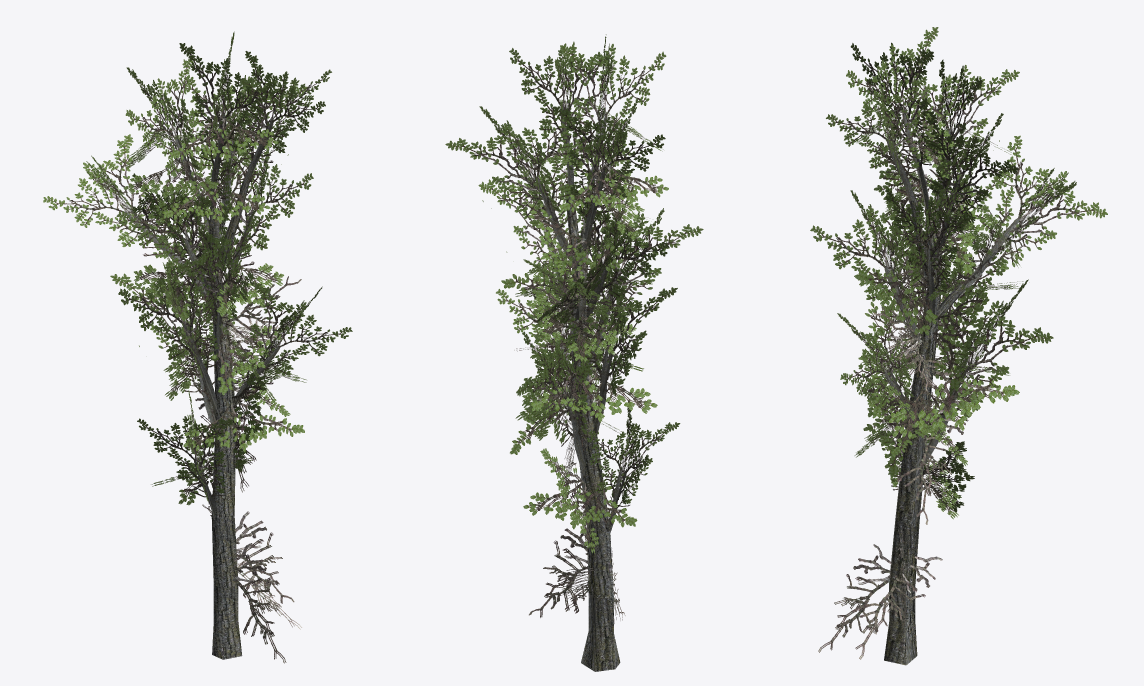
File: flora_tree_elm_v3.glb
3 views of the same model, side by side, from view 1: azimuth 30°, elevation 25°; view 2: azimuth 150°, elevation 25°; view 3: azimuth 270°, elevation 25° (orthographic). The views are drawn at different scales.
Parts seen in each view (by area): view 1: flora_tree_elm_v3_part0; view 2: flora_tree_elm_v3_part0; view 3: flora_tree_elm_v3_part0.
Boxes of the visible parts, x1,y1,x2,y2 form: flora_tree_elm_v3_part0: (43,31,352,663); flora_tree_elm_v3_part0: (445,34,703,671); flora_tree_elm_v3_part0: (810,27,1107,665).
Size of the model in its own units: 11.99 by 25.9 by 13.1.
1 material, 1 textured.
